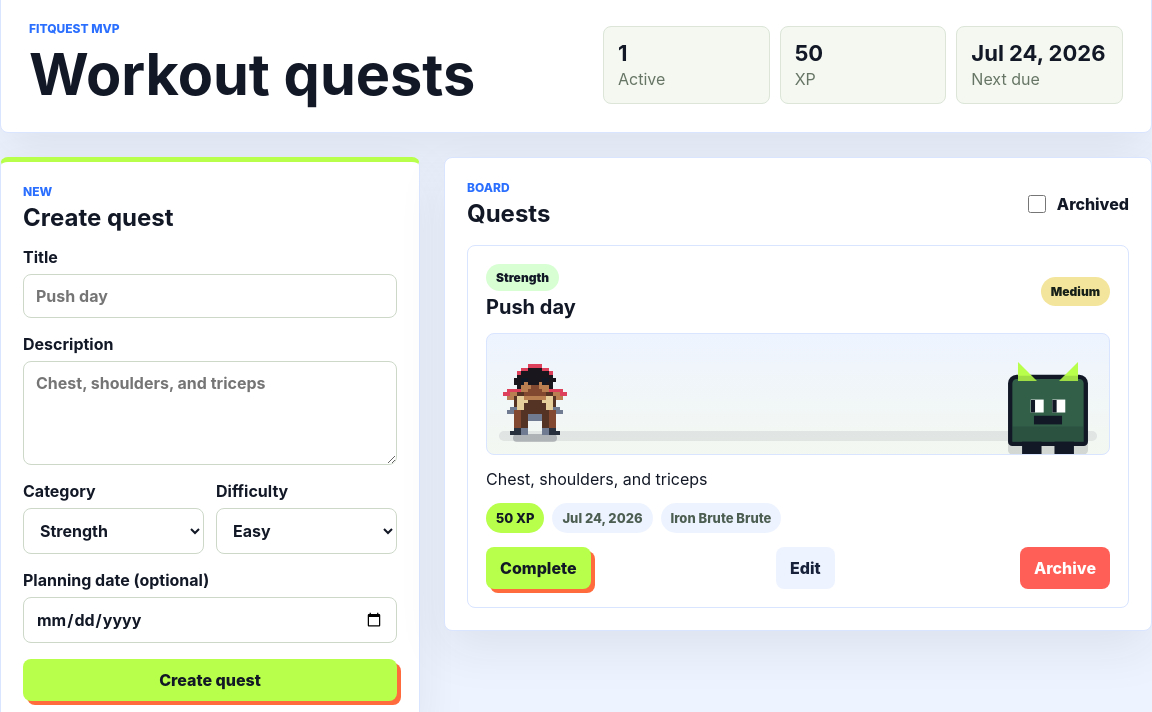
Test case: Quests › completes a quest and shows unlocked achievement feedback
Expected: the text "Push day" is shown, [486, 295, 576, 319]
Click the button "Complete". click: (538, 568)
box: [486, 547, 590, 589]
(page scrolled)
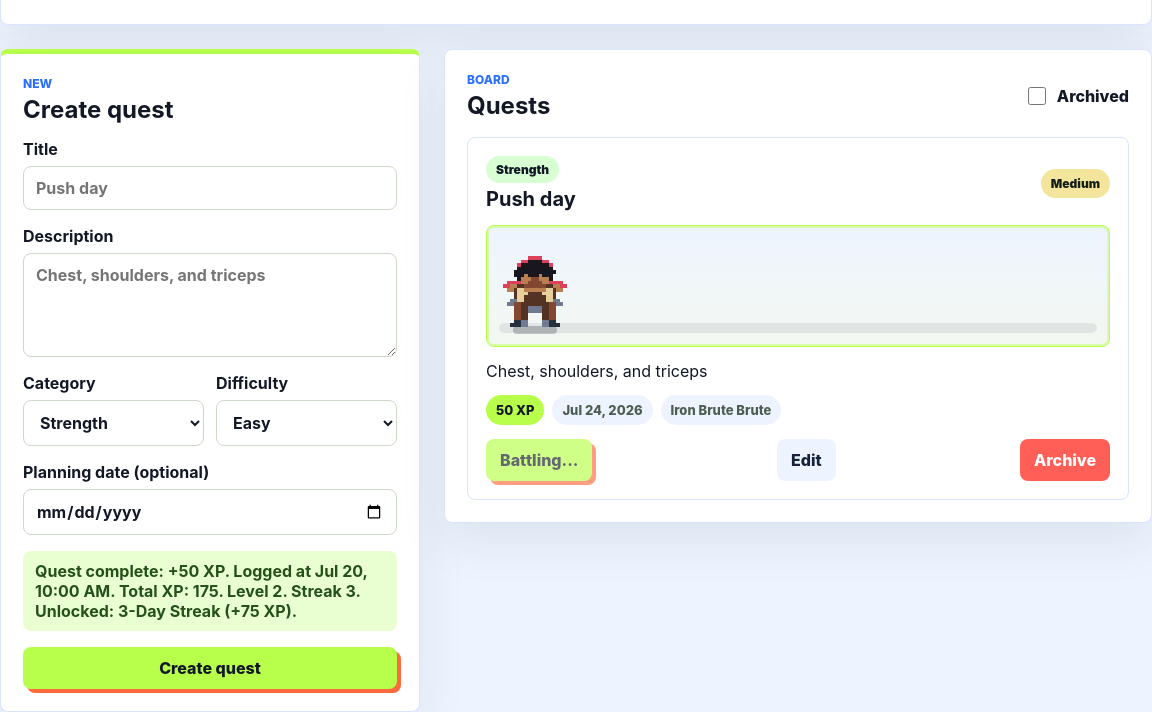
Expected: the button "Battling..." is shown, [486, 439, 592, 481]
Expected: the text "Unlocked: 3-Day Streak (+75 XP)" is shown, [35, 561, 368, 621]
